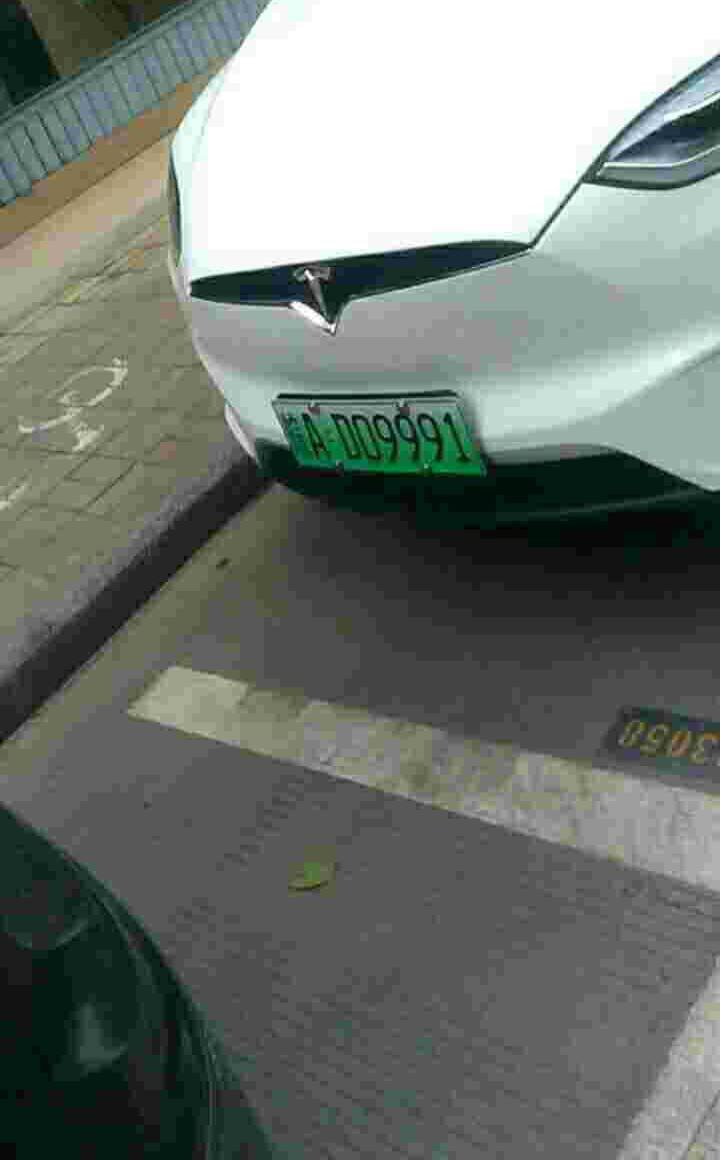car_green: (268, 390, 490, 491)
